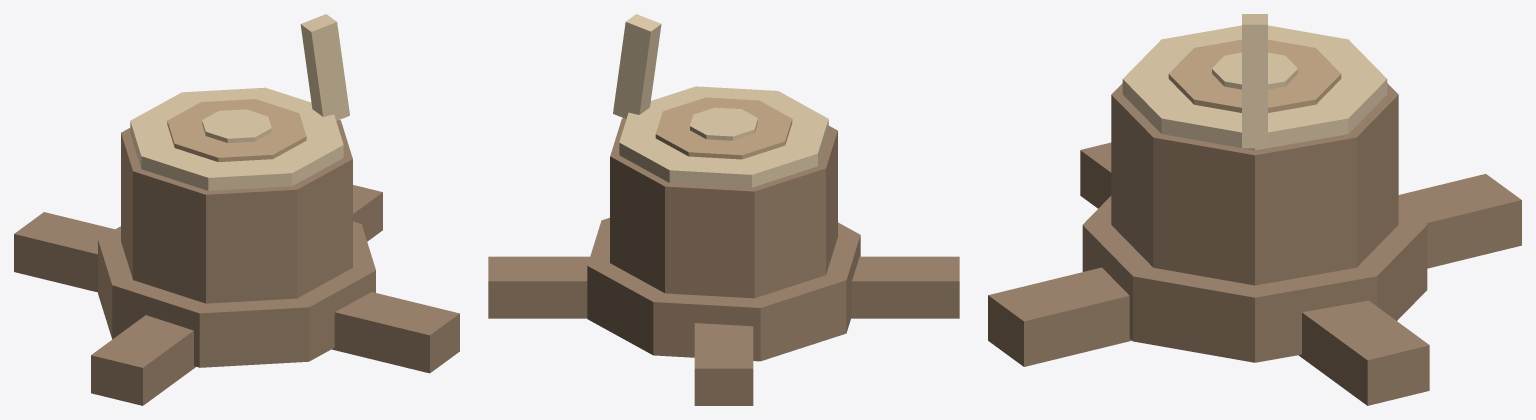
Rendered from stump_pine.glb.
3 renders of one model, left to right at view 1: azimuth 30°, elevation 25°; view 2: azimuth 150°, elevation 25°; view 3: azimuth 270°, elevation 25°, orthographic. The views are drawn at different scales.
Parts seen in each view (by area): view 1: wood_dark, wood_light, wood; view 2: wood_dark, wood_light, wood; view 3: wood_dark, wood_light, wood.
Part boxes in pixels (left/top/right/bottom): wood_dark: left=14, top=120, right=459, bottom=405; wood_light: left=130, top=14, right=349, bottom=190; wood: left=167, top=99, right=306, bottom=162; wood_dark: left=488, top=118, right=959, bottom=405; wood_light: left=613, top=14, right=828, bottom=187; wood: left=655, top=97, right=792, bottom=159; wood_dark: left=988, top=83, right=1521, bottom=405; wood_light: left=1122, top=14, right=1387, bottom=150; wood: left=1168, top=39, right=1341, bottom=112.
Bounding box in the file's own units: 0.3714 × 0.2488 × 0.3714.
